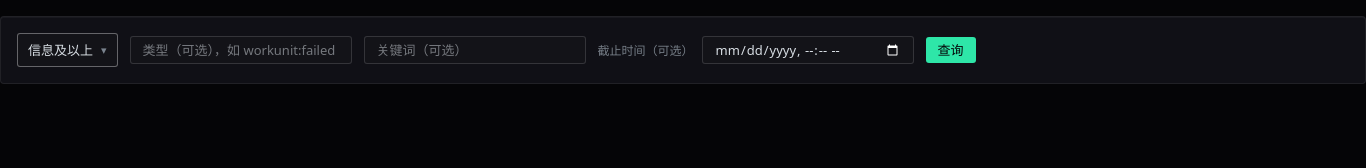
Test: EventSearchPanel › 空结果显示「没有匹配的事件」
Click the button "查询" at (951, 50), box [926, 37, 976, 63]
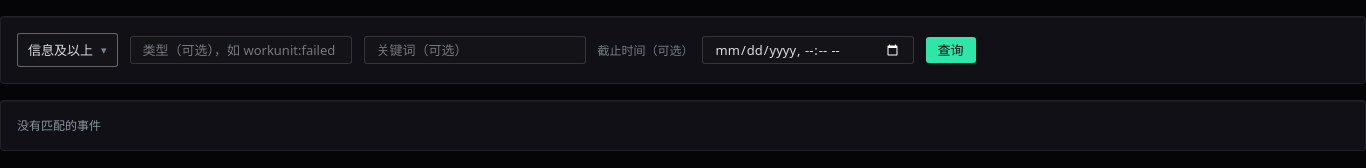
expect the text "没有匹配的事件" is shown: met, box [17, 117, 101, 134]
